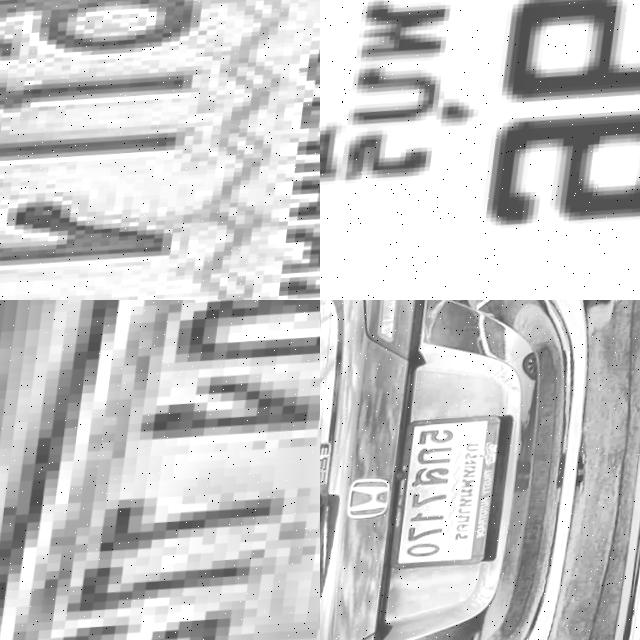license-plate: (0, 300, 320, 640), (0, 0, 320, 300), (320, 0, 640, 300), (394, 420, 508, 576)
